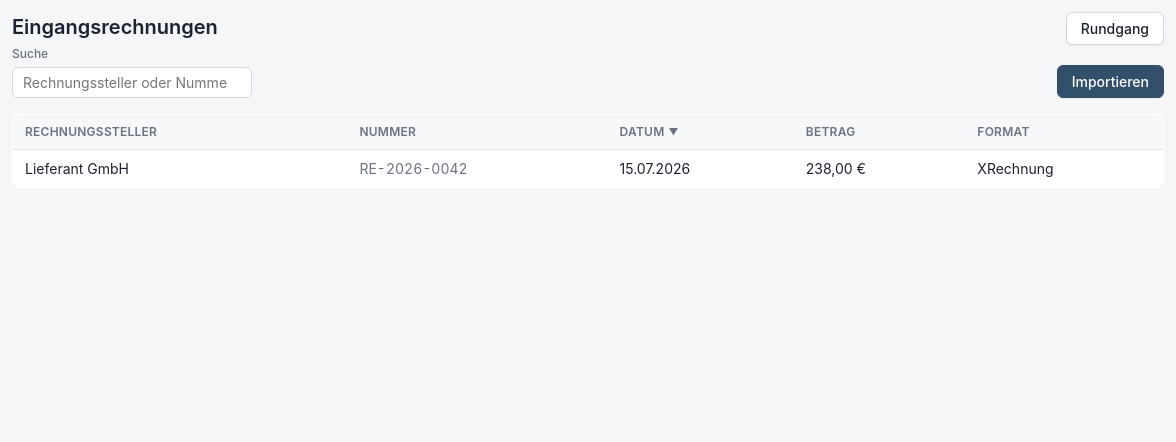
it: Eingangsrechnungen › zeigt nach Dateiauswahl die geparsten Felder nur als Text, mit Bearbeiten-Button
Expected: the text "Lieferant GmbH" is shown, 12,150 -> 347,188
What coordinates should you click on to do the following:
click the button "Importieren"
I would click on:
 (1110, 82)
Its box is 1057,65 -> 1164,98.
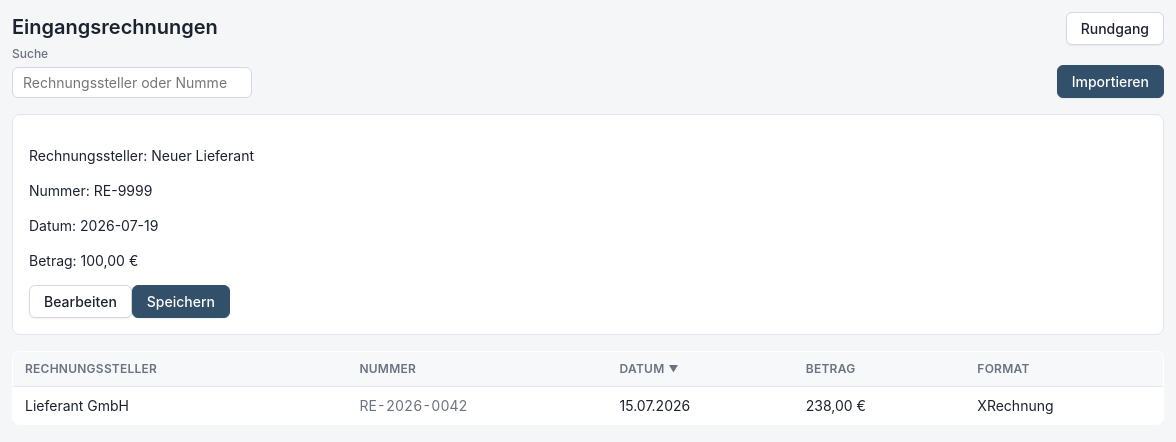
Expected: the text "Neuer Lieferant" is shown, 151,147 -> 254,164
Expected: the button "Bearbeiten" is shown, 29,285 -> 132,318
